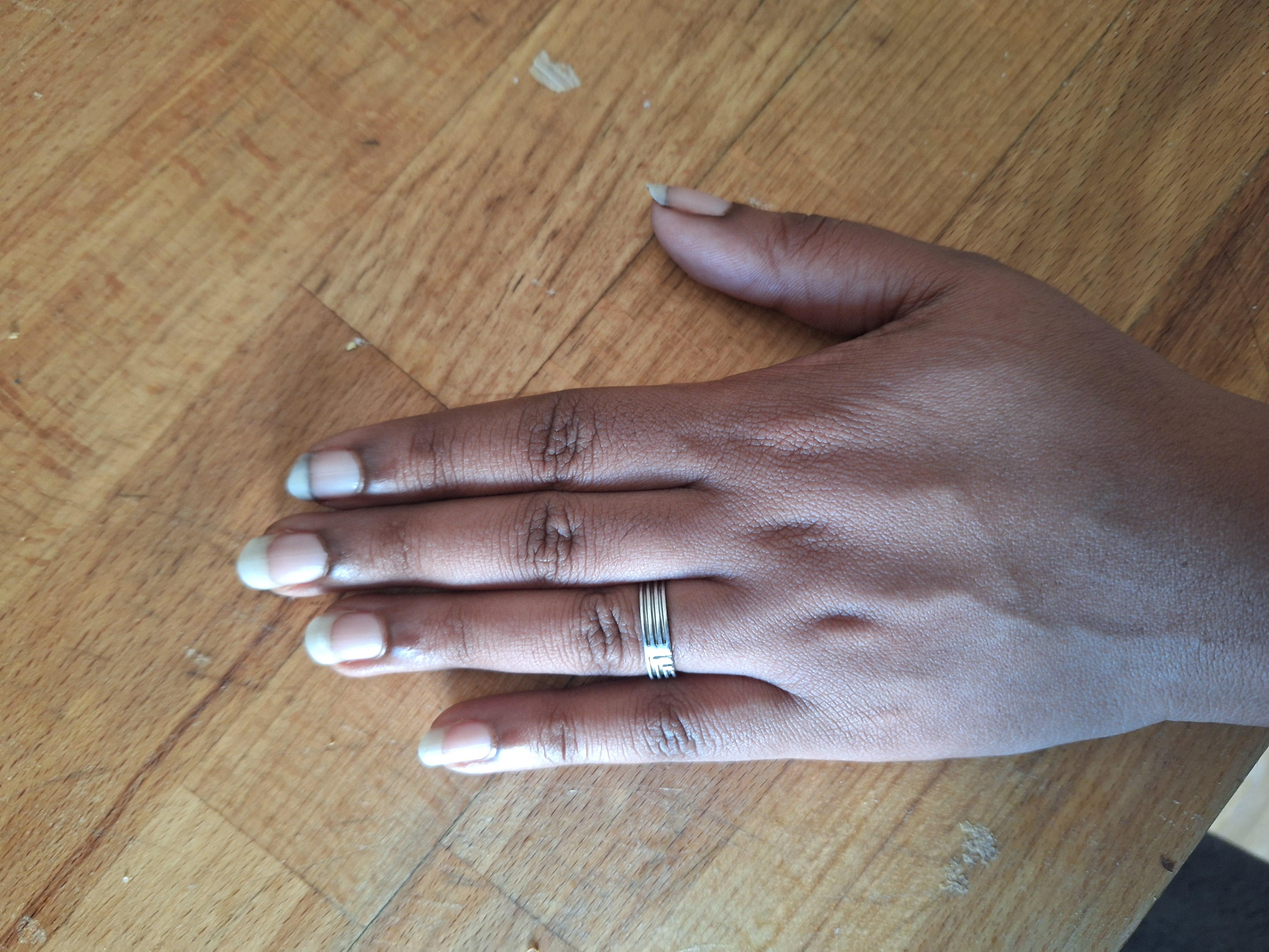Fingernail: (237, 533, 328, 589), (305, 611, 383, 665), (286, 449, 360, 502), (418, 721, 491, 766), (646, 185, 731, 215)
